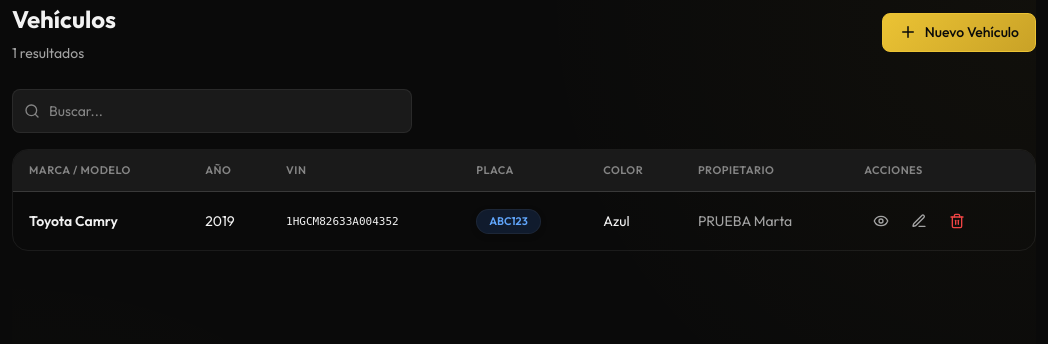
Test: Historial del vehículo › el ojo abre el detalle con las órdenes del vehículo
Expected: the text "Toyota Camry" is shown, left=13, top=192, right=189, bottom=250
Click the button named "Ver" at (881, 221), box left=864, top=204, right=898, bottom=238
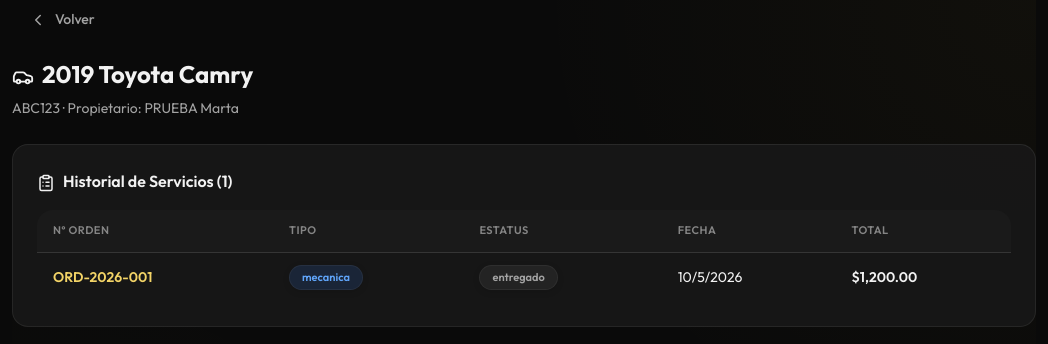
Result: the heading "2019 Toyota Camry" is shown at left=12, top=55, right=253, bottom=93
Result: the heading "Historial de Servicios (1)" is shown at left=37, top=169, right=232, bottom=194
Result: the button "ORD-2026-001" is shown at left=53, top=266, right=152, bottom=289
